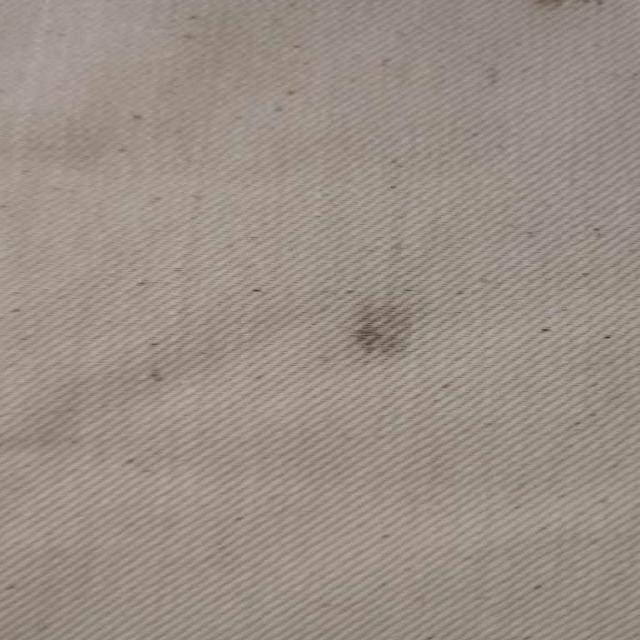taaaches: (331, 289, 439, 370), (496, 0, 626, 24)
